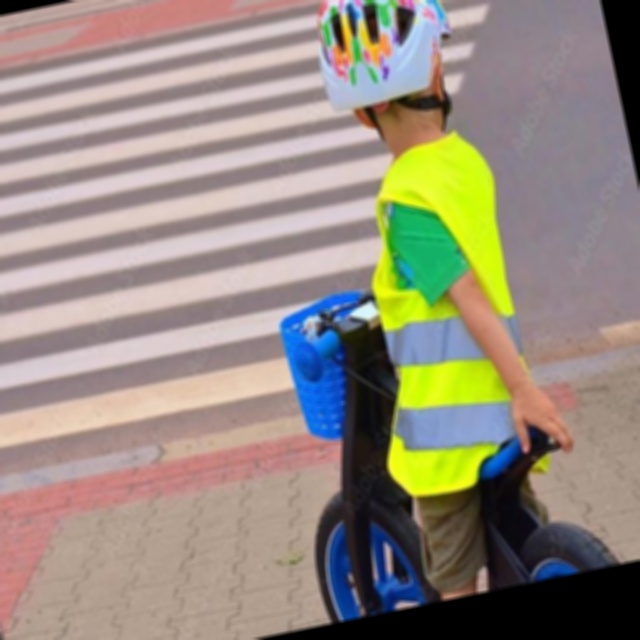Con_Chaleco: (340, 133, 548, 491)
